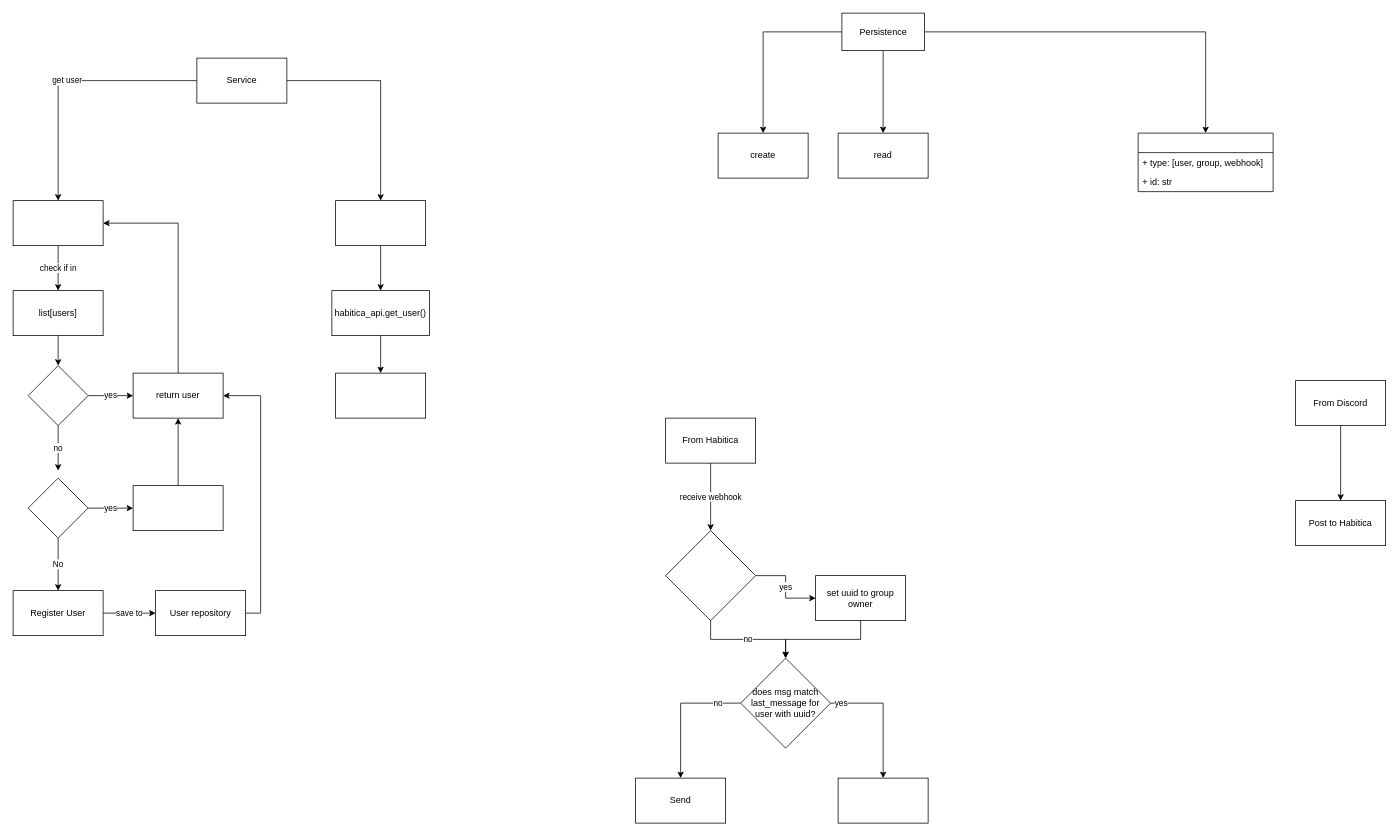
The diagram is 1399 pixels wide and 836 high, and some of its shapes have lost their labels. The shapes that lost their labels are listed below. From the top down, each one's box as (x1, y1, x2, y2) in pixels, then its label:
(1137, 132, 1273, 192): Reference
(12, 200, 103, 246): get_user
(335, 200, 426, 246): register_user
(27, 365, 88, 426): Is loaded?
(27, 477, 88, 538): is in repository?
(132, 485, 223, 531): retrieve user
(665, 530, 756, 621): Is uuid 'system'?
(837, 777, 928, 823): Don't send
